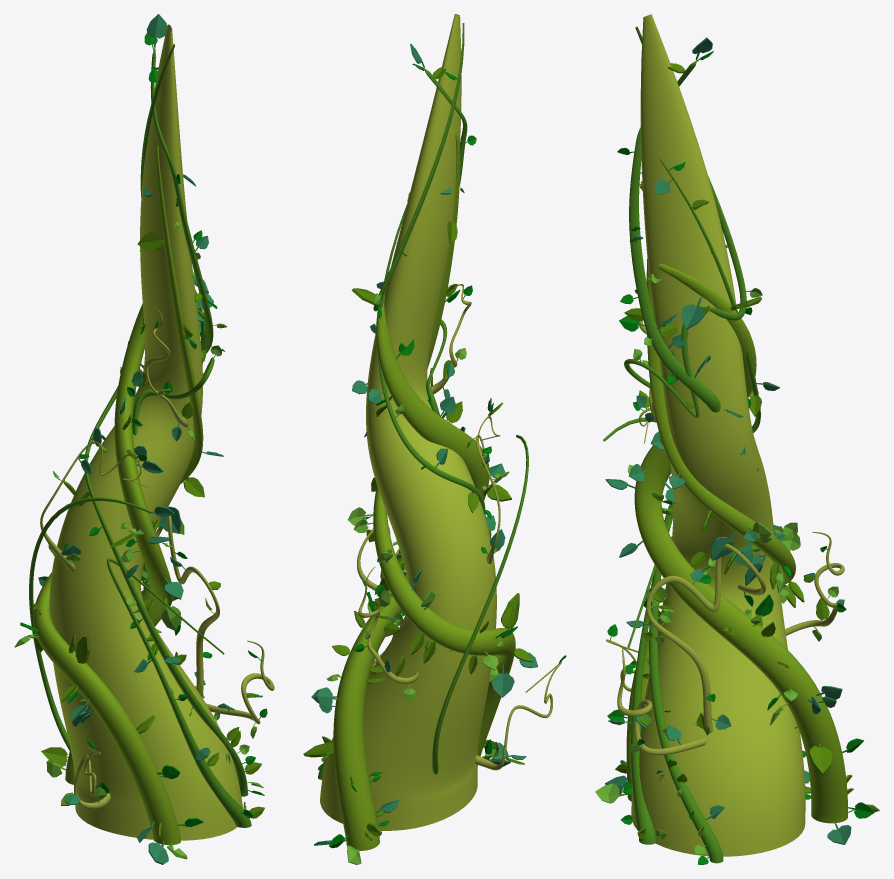
Rendered from Bohnenranke4.fbx.
3 views of the same model, side by side, from view 1: azimuth 30°, elevation 25°; view 2: azimuth 150°, elevation 25°; view 3: azimuth 270°, elevation 25° (orthographic). The views are drawn at different scales.
Visible parts, largest first — view 1: NurbsPath.067, NurbsPath.069, NurbsPath.068, NurbsPath.070, NurbsPath.075, NurbsPath.080, NurbsPath.076, NurbsPath.079, NurbsPath.071, NurbsPath.074, NurbsPath.072, NurbsPath.073 (+1 smaller); view 2: NurbsPath.067, NurbsPath.068, NurbsPath.069, NurbsPath.079, NurbsPath.076, NurbsPath.070, NurbsPath.073, NurbsPath.078, NurbsPath.072, NurbsPath.080; view 3: NurbsPath.067, NurbsPath.068, NurbsPath.069, NurbsPath.070, NurbsPath.080, NurbsPath.071, NurbsPath.075, NurbsPath.079, NurbsPath.074, NurbsPath.078.
Part boxes in pixels (box(x1,y1,x2,y2)): NurbsPath.067: box(49, 24, 242, 840); NurbsPath.069: box(33, 143, 203, 845); NurbsPath.068: box(65, 252, 200, 784); NurbsPath.070: box(84, 386, 248, 796); NurbsPath.075: box(106, 558, 251, 827); NurbsPath.080: box(150, 47, 213, 353); NurbsPath.076: box(29, 497, 151, 753); NurbsPath.079: box(132, 44, 214, 435); NurbsPath.071: box(155, 515, 219, 694); NurbsPath.074: box(206, 640, 274, 724); NurbsPath.072: box(40, 441, 148, 571); NurbsPath.073: box(74, 744, 110, 809); NurbsPath.067: box(320, 14, 496, 830); NurbsPath.068: box(333, 291, 489, 850); NurbsPath.069: box(373, 132, 515, 766); NurbsPath.079: box(373, 23, 464, 415); NurbsPath.076: box(432, 435, 528, 774); NurbsPath.070: box(318, 206, 485, 779); NurbsPath.073: box(475, 662, 561, 770); NurbsPath.078: box(358, 566, 418, 683); NurbsPath.072: box(475, 416, 500, 563); NurbsPath.080: box(423, 67, 467, 185); NurbsPath.067: box(631, 14, 805, 856); NurbsPath.068: box(634, 263, 847, 823); NurbsPath.069: box(626, 259, 795, 801); NurbsPath.070: box(649, 159, 760, 863); NurbsPath.080: box(629, 60, 720, 412); NurbsPath.071: box(646, 544, 765, 733); NurbsPath.075: box(627, 514, 673, 844); NurbsPath.079: box(624, 26, 746, 417); NurbsPath.074: box(617, 646, 707, 755); NurbsPath.078: box(785, 531, 844, 635).
Size of the model in its own units: 404 by 1405 by 449.
